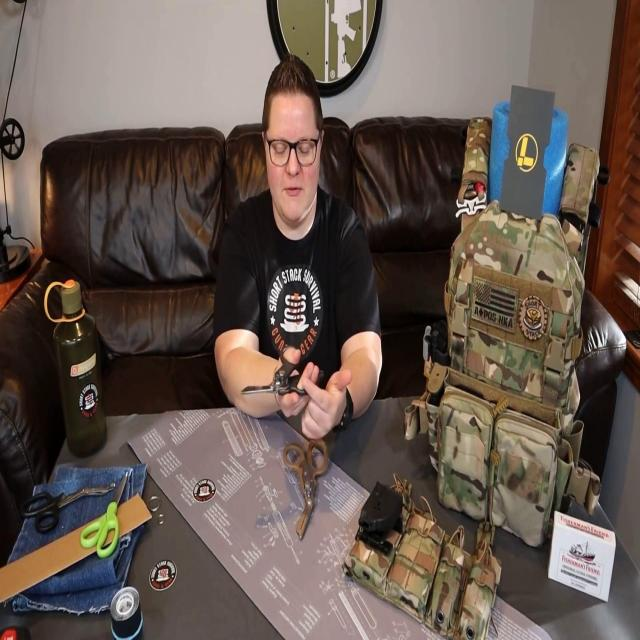scissor: (20, 479, 116, 535), (283, 436, 328, 541), (241, 346, 326, 397), (80, 470, 128, 557)
